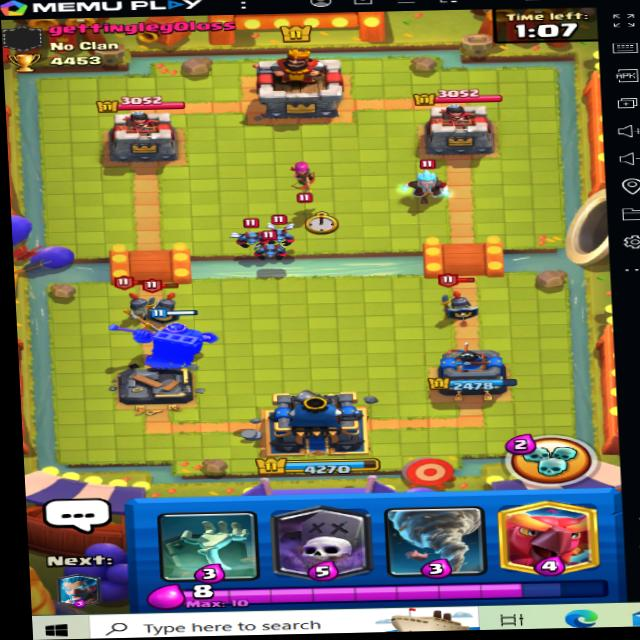archer: (285, 158, 321, 189)
guards: (111, 273, 155, 322), (144, 277, 187, 324), (440, 277, 480, 325)
ice-wizard: (396, 156, 453, 207)
minion: (226, 215, 266, 245), (253, 231, 294, 258), (268, 214, 303, 242)
